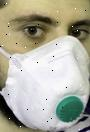with_mask: (1, 1, 90, 132)
